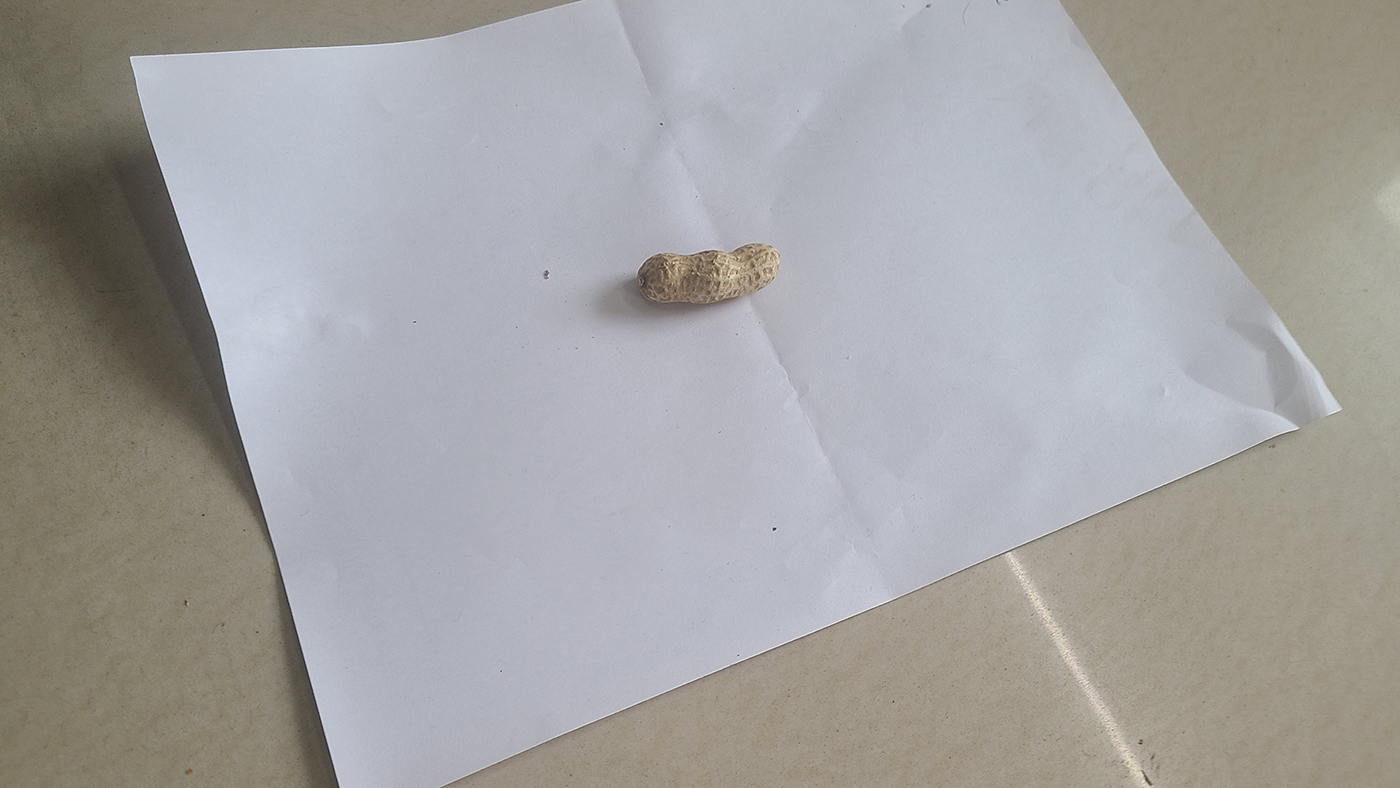h: (635, 241, 781, 304)
